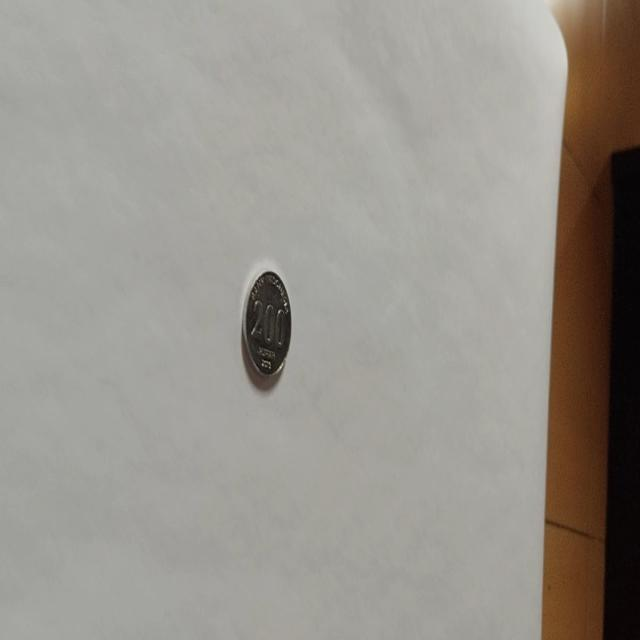dua ratus rupiah: (241, 268, 292, 380)
